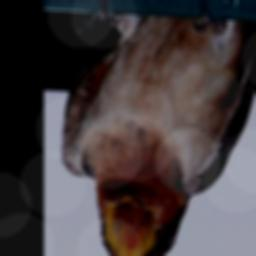Swallow: (60, 0, 256, 256)
